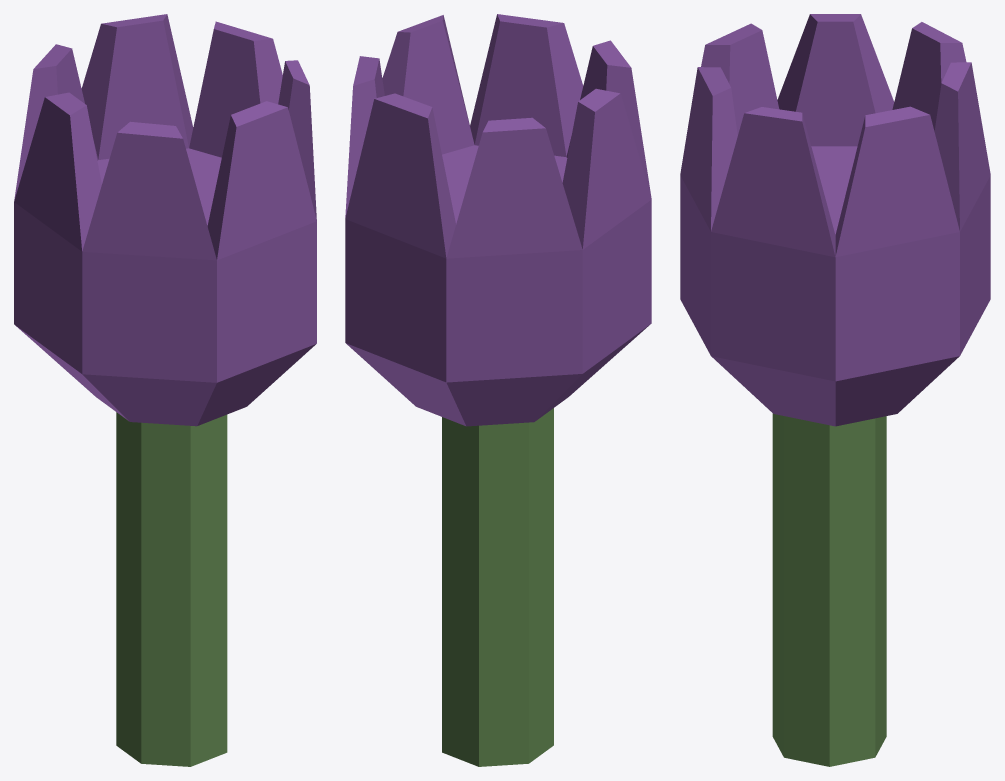
File: paarsetulp.fbx
The picture shows the model from 3 angles, left to right: view 1: azimuth 30°, elevation 25°; view 2: azimuth 150°, elevation 25°; view 3: azimuth 270°, elevation 25°; orthographic projection.
Visible parts, largest first — view 1: PAARSETULP; view 2: PAARSETULP; view 3: PAARSETULP.
Part boxes in pixels (left/top/right/bottom): PAARSETULP: left=14, top=14, right=316, bottom=766; PAARSETULP: left=345, top=14, right=651, bottom=766; PAARSETULP: left=680, top=14, right=990, bottom=766.
Bounding box in the file's own units: 0.3301 × 0.8195 × 0.3386.
